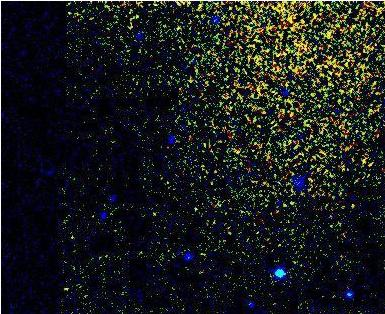star: (275, 189, 305, 219)
